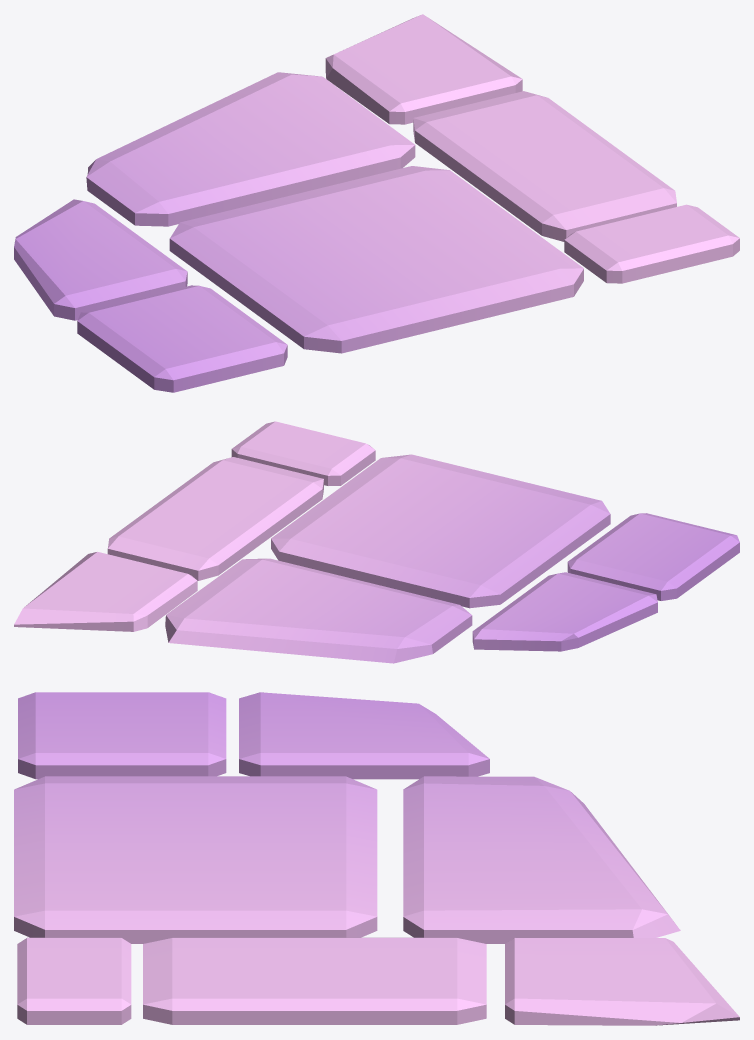
The model's file is Pavement_Turn.fbx.
3 views of the same model, one above another, from view 1: azimuth 30°, elevation 25°; view 2: azimuth 150°, elevation 25°; view 3: azimuth 270°, elevation 25° (orthographic). The views are drawn at different scales.
Parts seen in each view (by area): view 1: PavementTurnMesh; view 2: PavementTurnMesh; view 3: PavementTurnMesh.
Boxes of the visible parts, x1=… form: PavementTurnMesh: x1=14, y1=14, x2=739, y2=392; PavementTurnMesh: x1=14, y1=421, x2=739, y2=663; PavementTurnMesh: x1=14, y1=692, x2=739, y2=1025.
Size of the model in its own units: 768 by 23.57 by 738.
